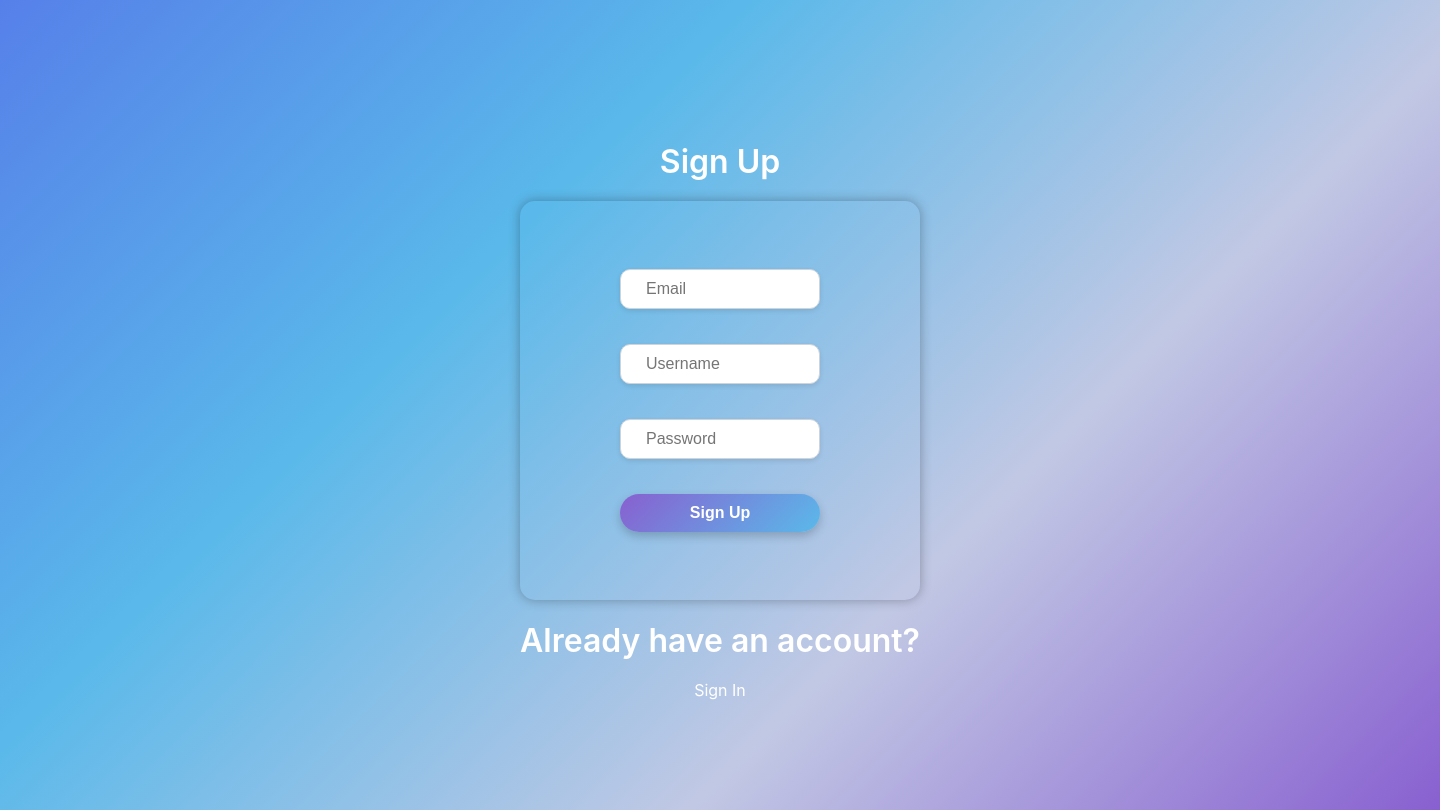
Scenario: SignUp Component Tests › successful signup
The width and height of the screenshot is (1440, 810).
Type "test@example.com" into the field with placeholder "Email" at x=720, y=288, box [620, 268, 820, 308]
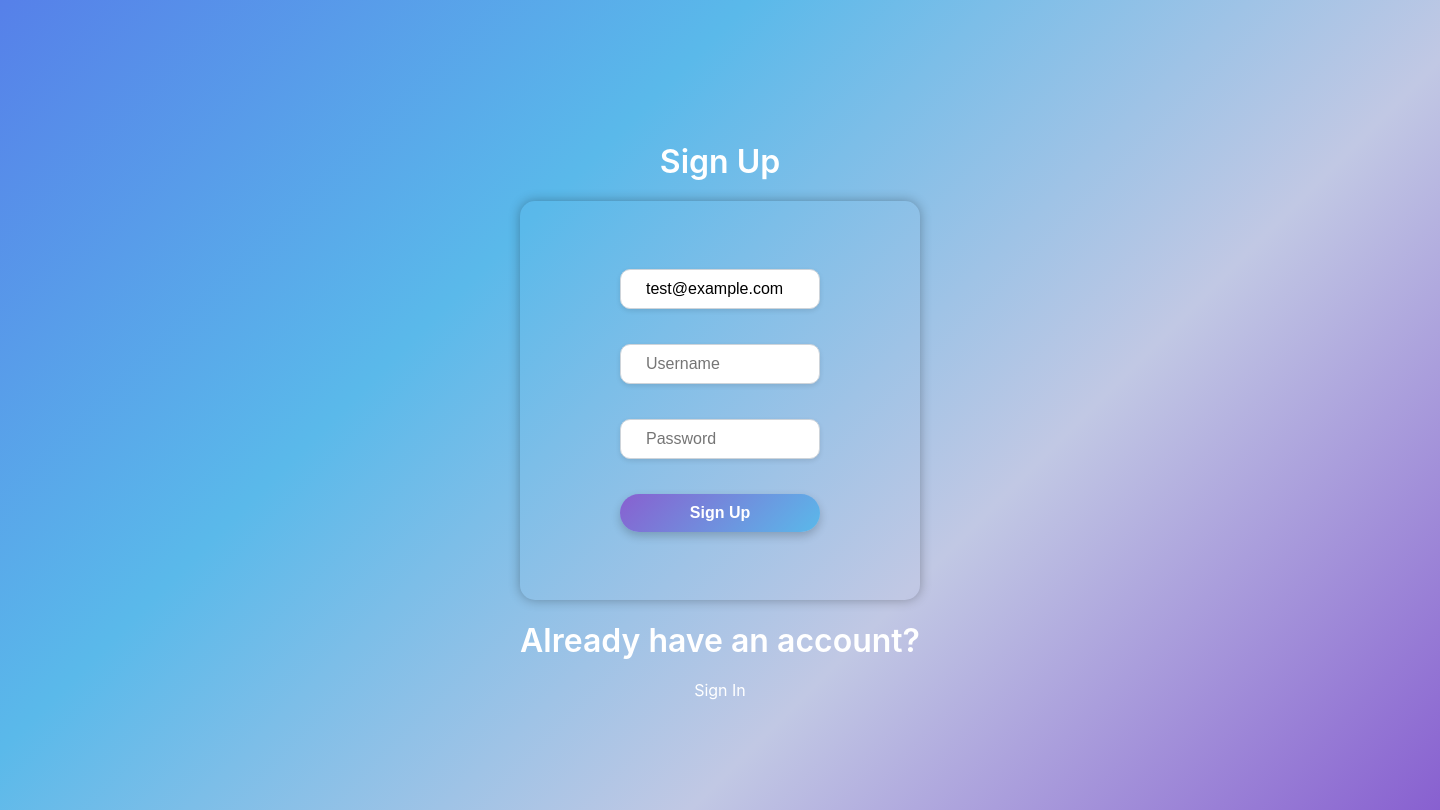
Type "testuser" into the field with placeholder "Username" at x=720, y=364, box [620, 344, 820, 384]
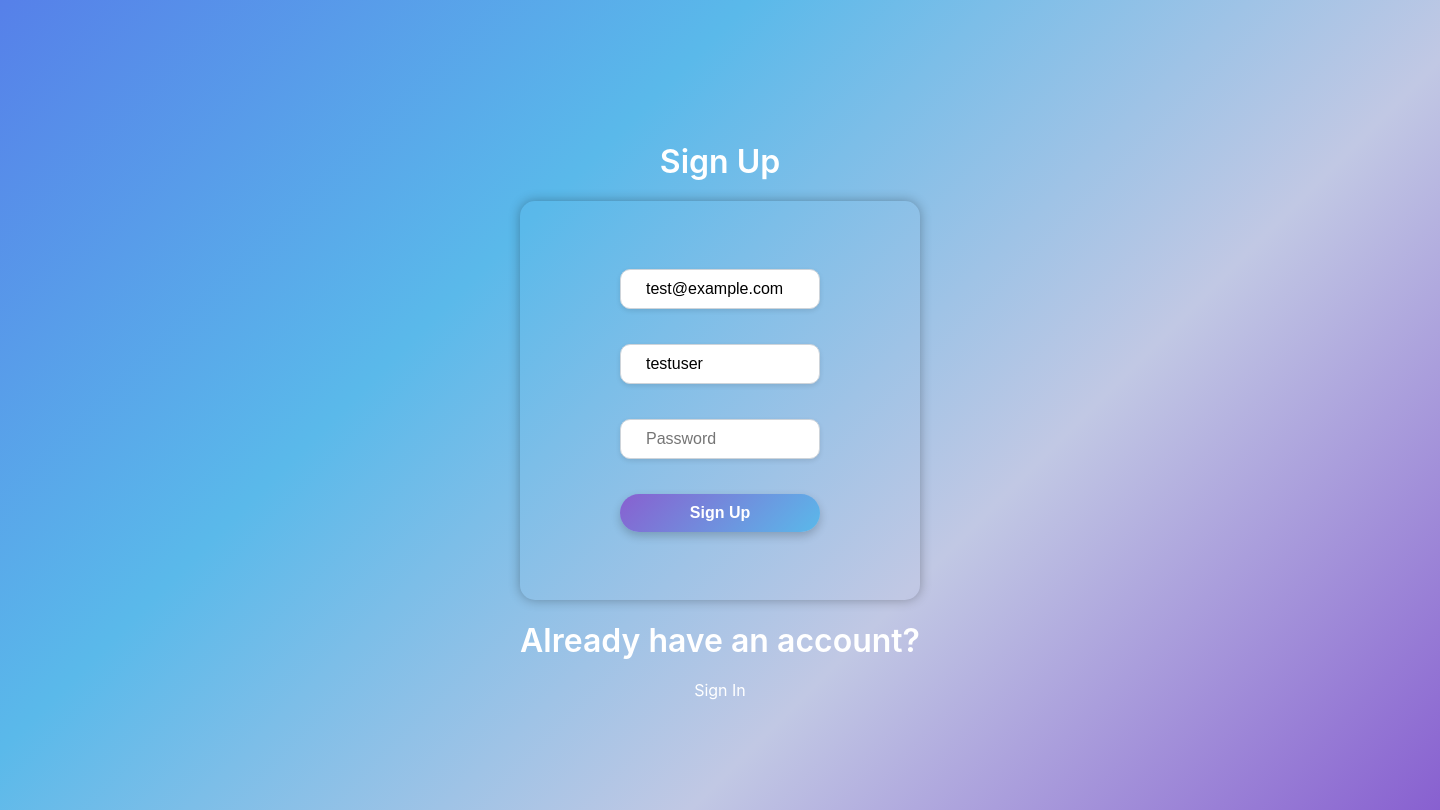
Type "password" into the password field with placeholder "Password" at x=720, y=438, box [620, 418, 820, 458]
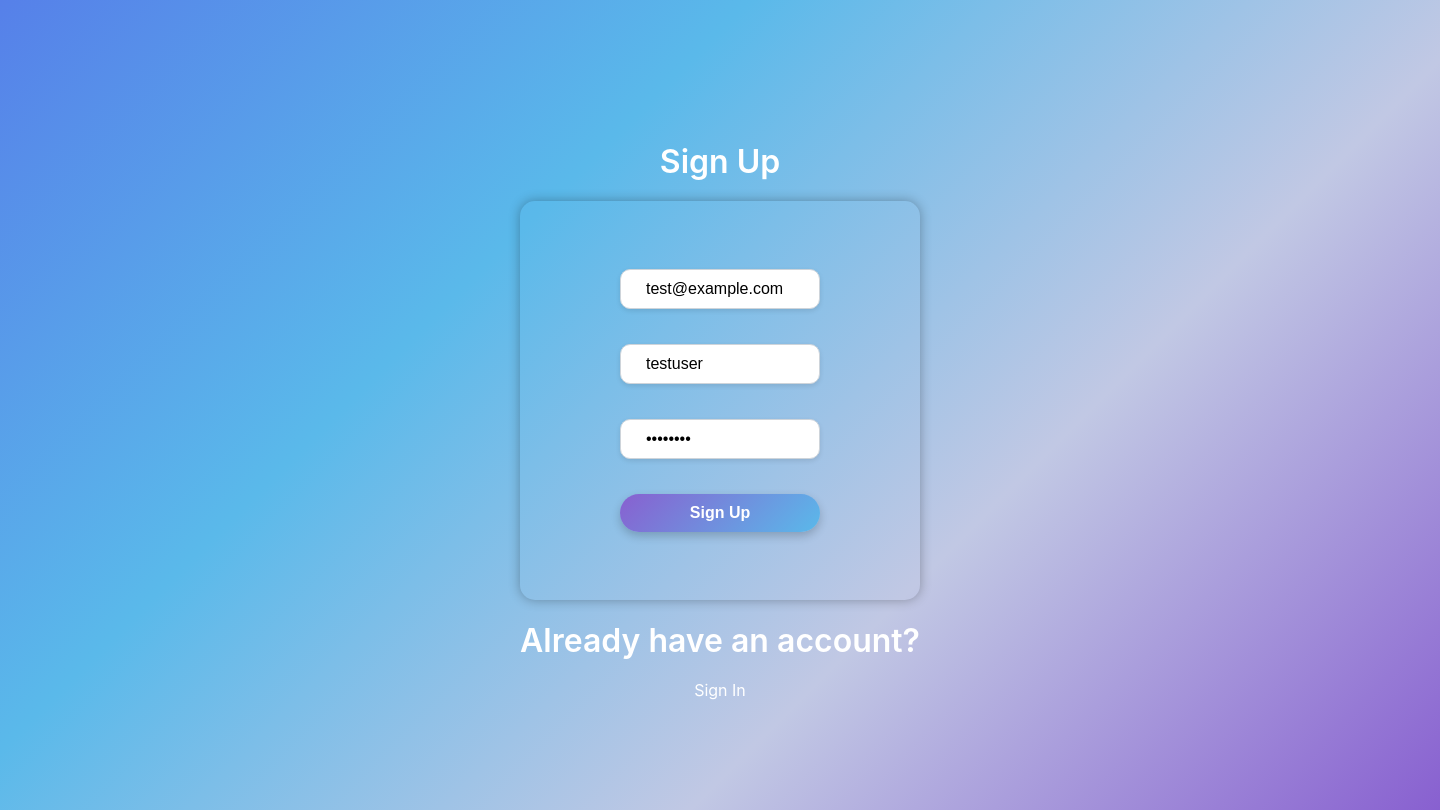
Click the button "Sign Up" at x=720, y=512, box [620, 494, 820, 532]
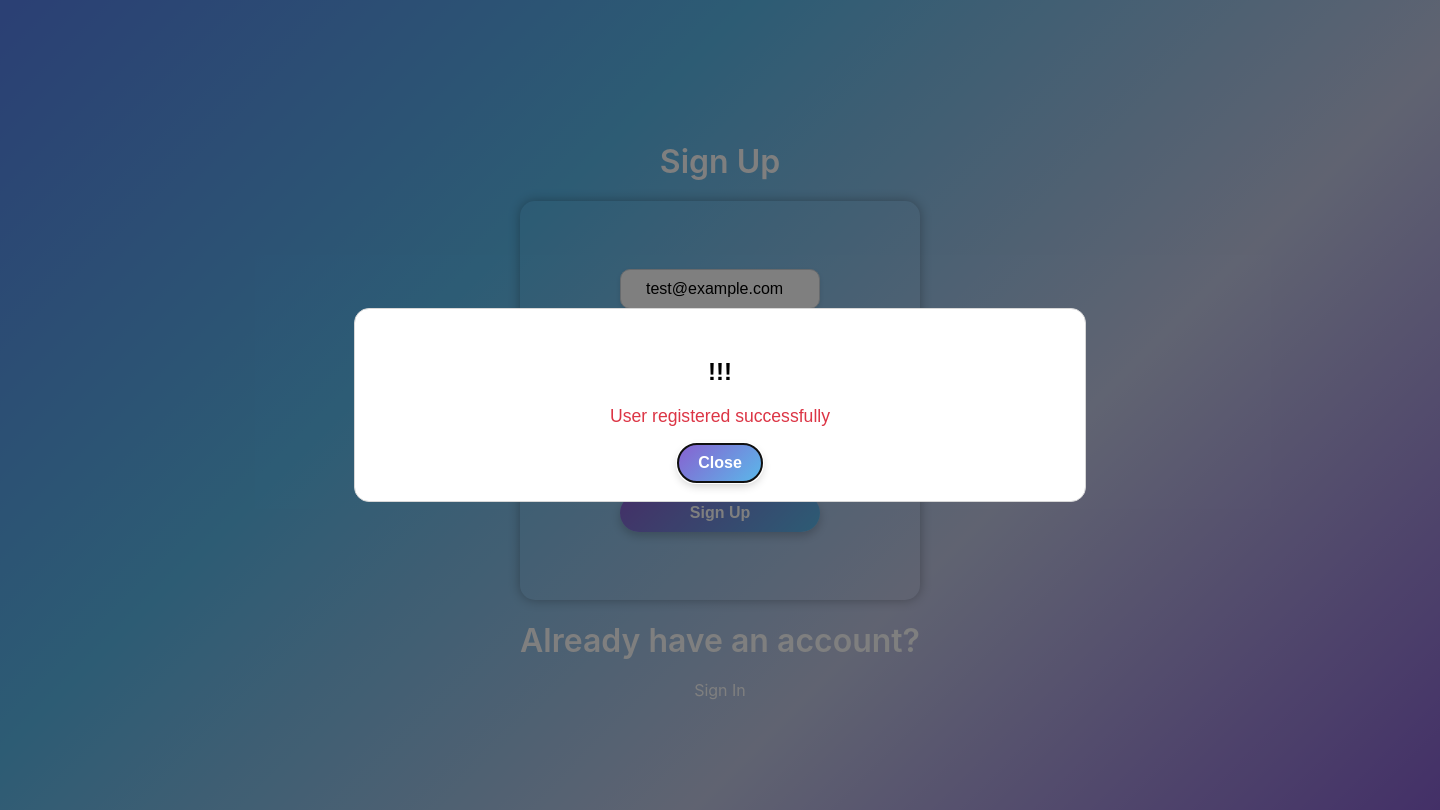
Expected: the text "User registered successfully" is shown, [610, 406, 830, 426]
